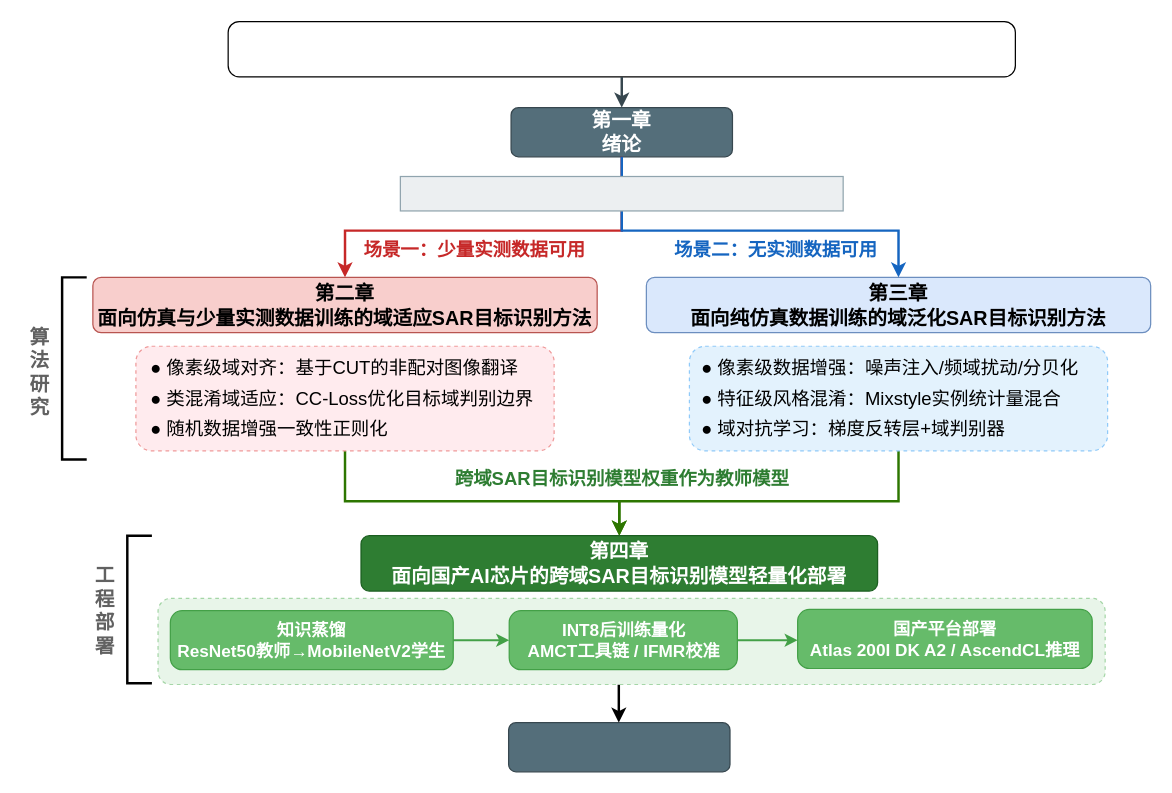
This 1172x793 diagram has some shape labels left out. The shapes that lost their labels are listed below. From the top down, each one's centre as x and y in pixels, then its label:
point 621,48: 面向仿真-实测迁移的跨域SAR目标识别方法研究
point 621,193: 研究背景与意义 / 国内外研究现状 / 本文结构安排
point 618,746: 第五章 总结与展望
